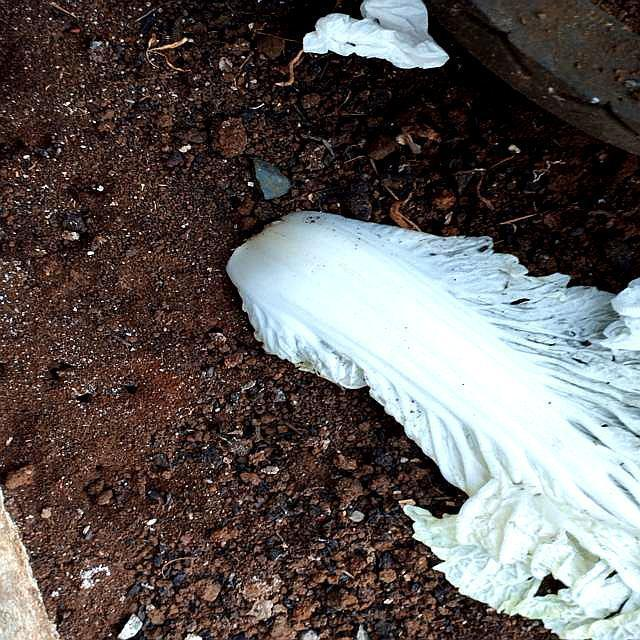Biodegradable: (229, 203, 640, 640)
